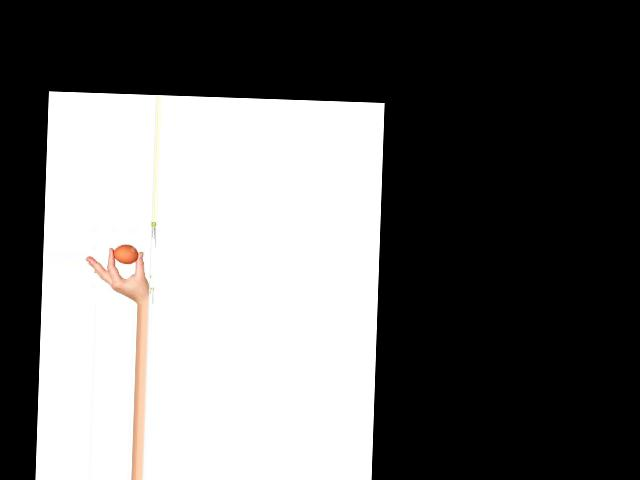egg: (113, 244, 139, 265)
